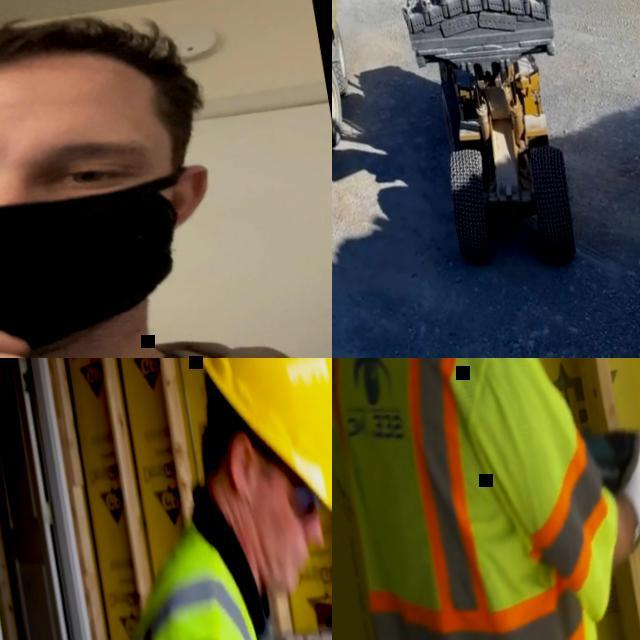helmet: (182, 358, 332, 537)
vest: (332, 358, 640, 640), (78, 517, 271, 640)
